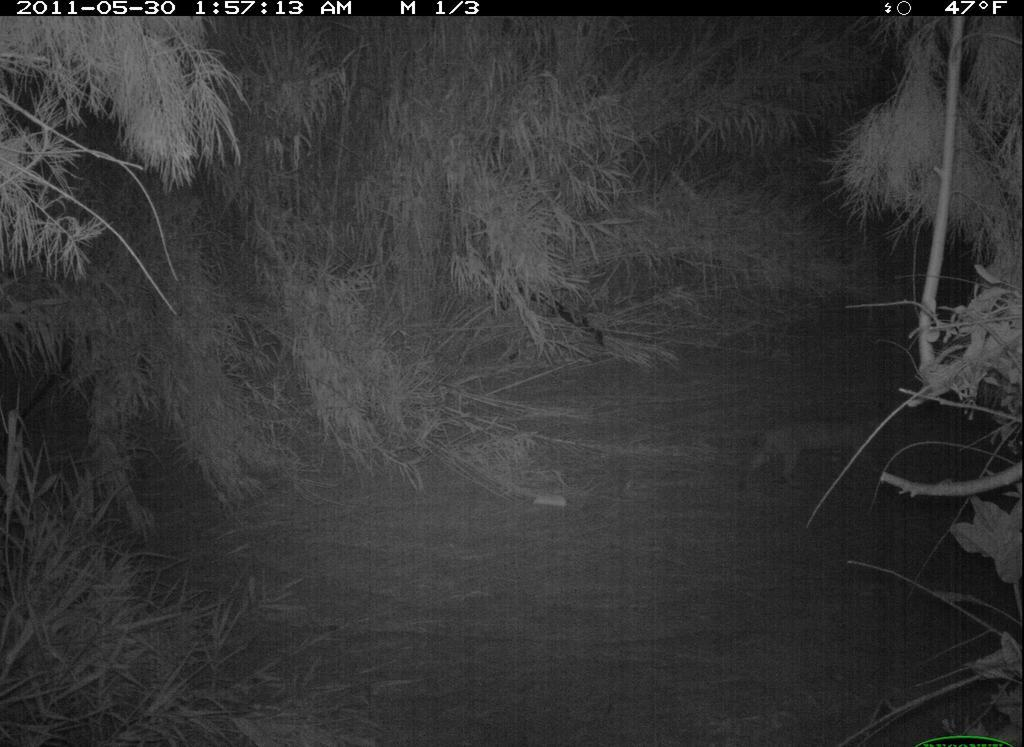bobcat: (729, 397, 910, 500)
